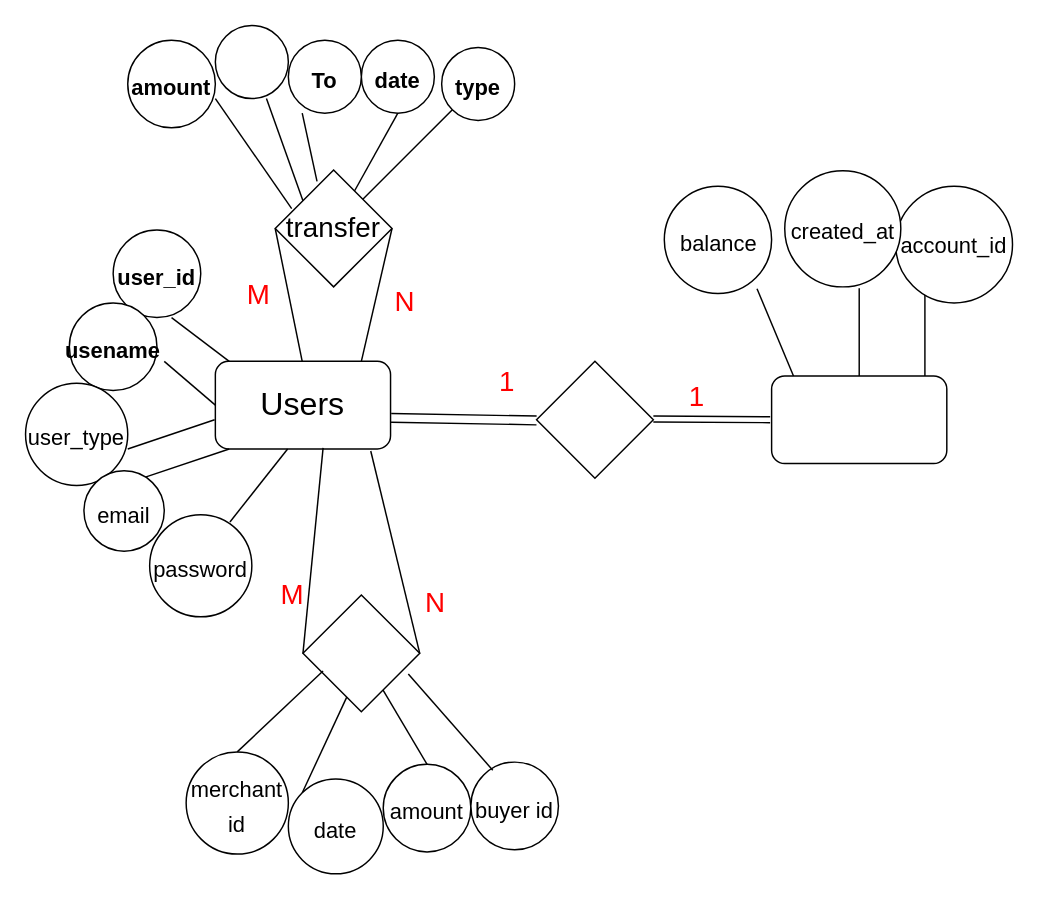
Some shapes in this 1038 by 899 pixel diagram are drawn without their labels. The centre of each missing label's shape, as x and y in pixels:
"Account" belongs at (858,419).
"create" belongs at (594,419).
"From" belongs at (251,61).
"purchase order" belongs at (360,652).
